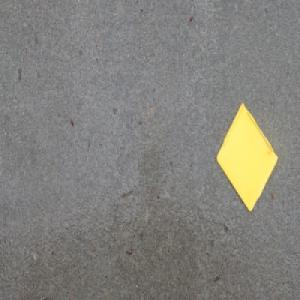PlasticPart: (215, 101, 279, 212)
